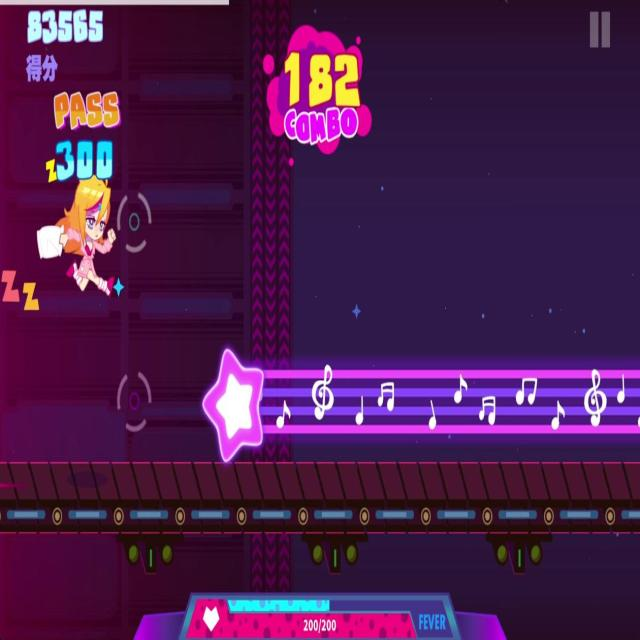hold: (207, 346, 640, 461)
